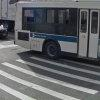buses: (14, 0, 100, 61)
